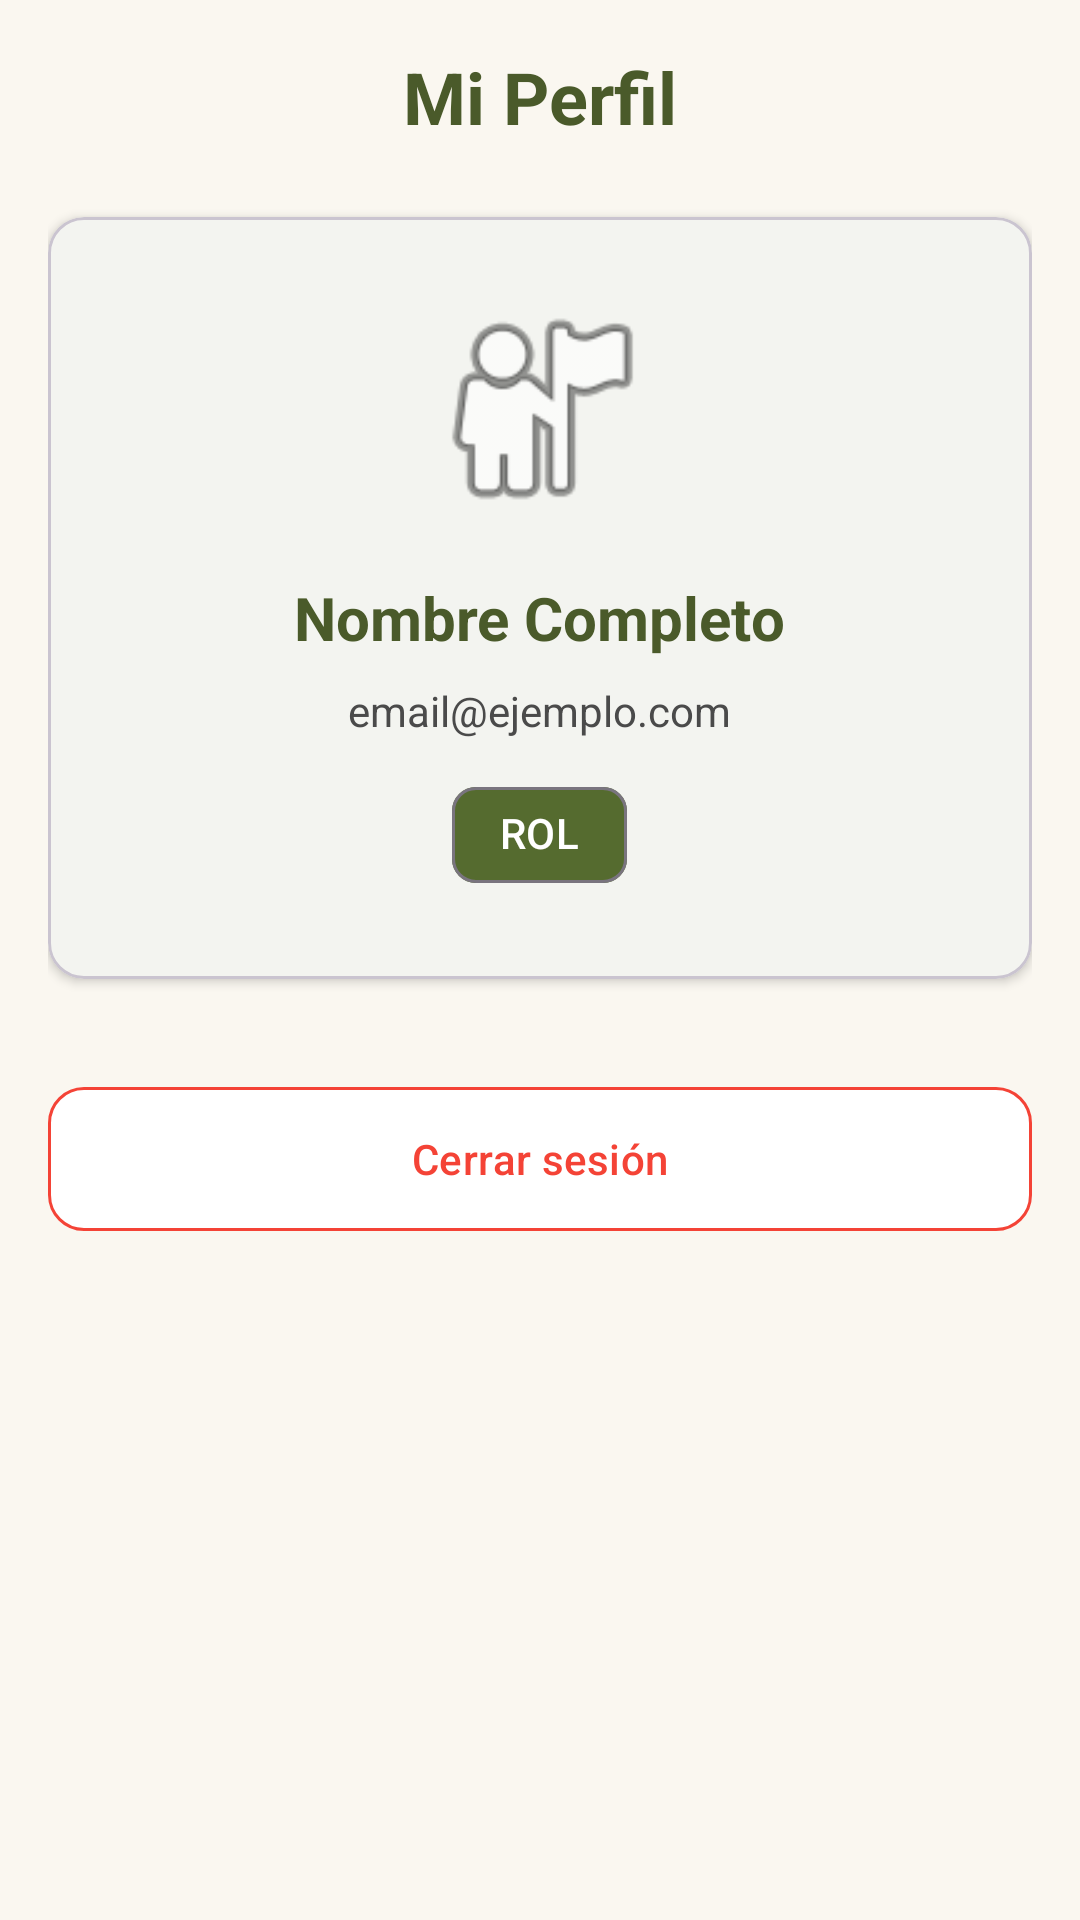

Icon bounding boxes for this 1080×1920 phone screenshot, format [x1=x1, y1=y1, x2=x2, y2=y2]:
Foto de perfil: [x1=452, y1=319, x2=633, y2=499]
